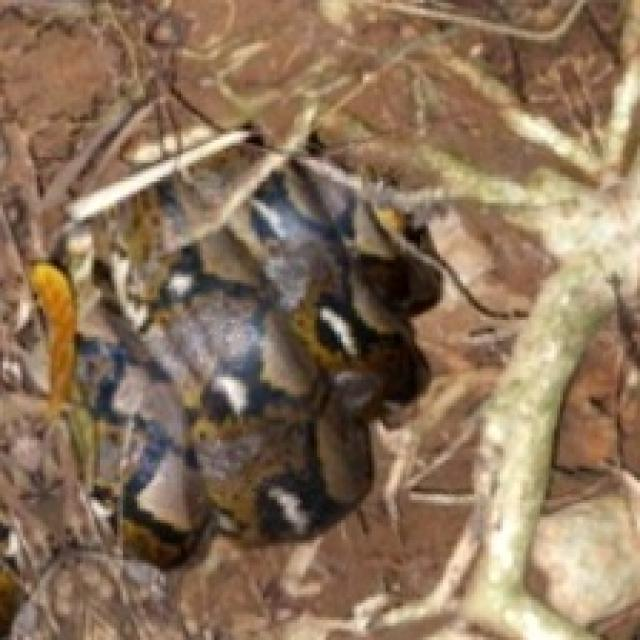reticulated python: (29, 131, 440, 566)
